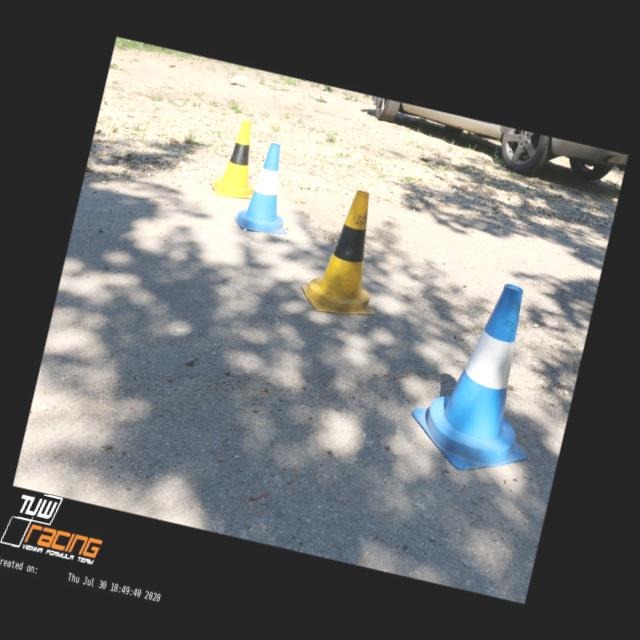blue_cone: (401, 269, 564, 485), (230, 138, 304, 238)
yellow_cone: (296, 182, 401, 324), (208, 116, 270, 202)
